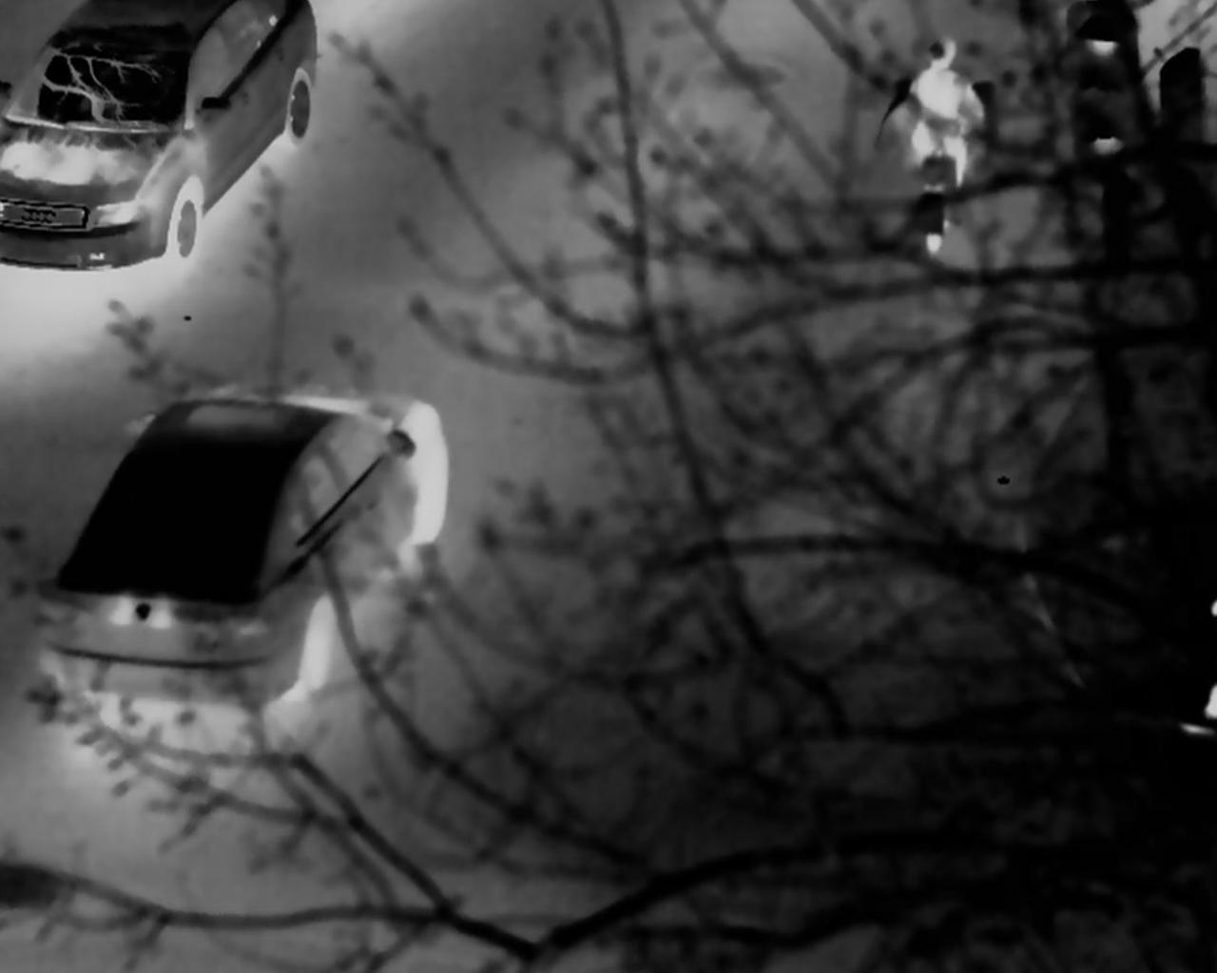person: (898, 29, 980, 187)
